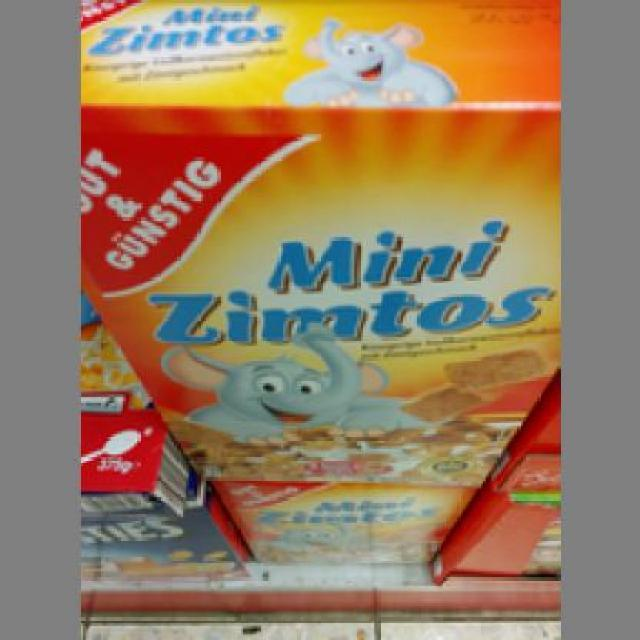Cereal: (77, 0, 554, 483)
